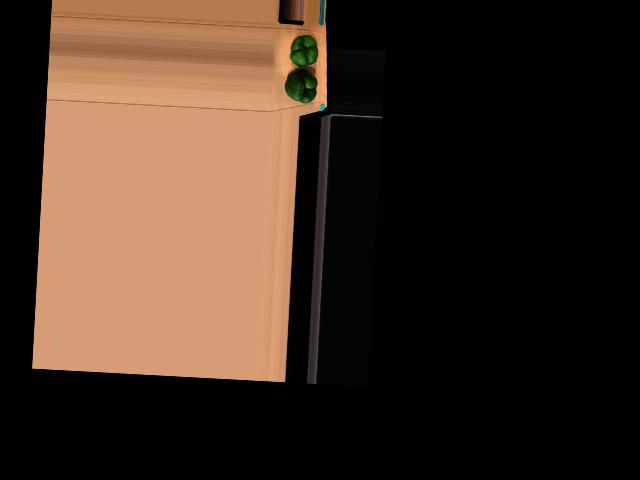bell_pepper: (285, 34, 319, 68)
